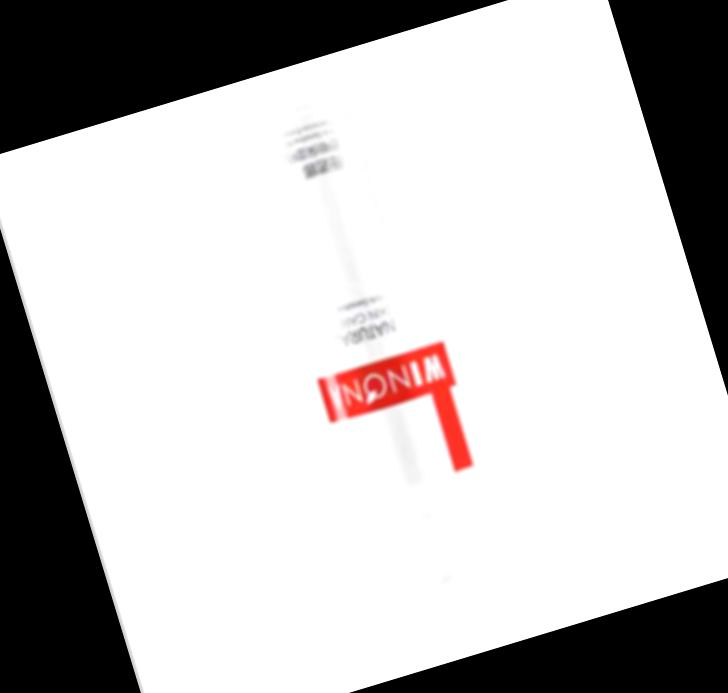cosmetic: (236, 83, 527, 647)
